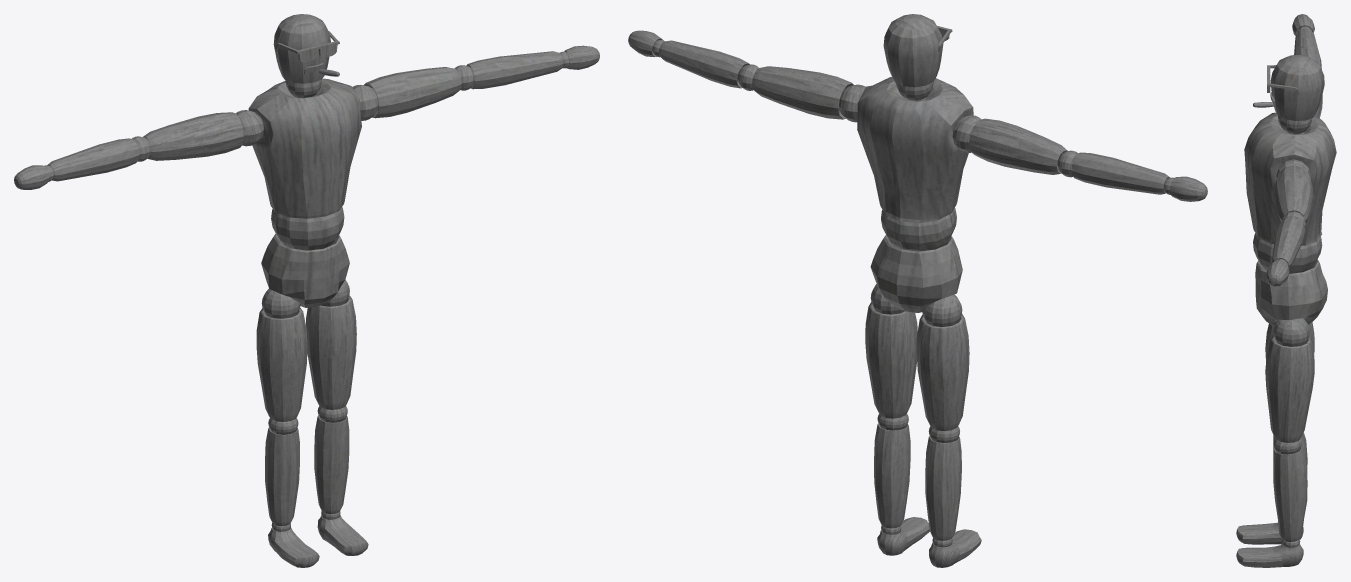
The model's file is NH_MannequinModel.obj.
3 views of the same model, side by side, from view 1: azimuth 30°, elevation 25°; view 2: azimuth 150°, elevation 25°; view 3: azimuth 270°, elevation 25° (orthographic). The views are drawn at different scales.
Parts seen in each view (by area): view 1: Hand_L; view 2: Hand_L; view 3: Hand_L.
Boxes of the visible parts, bbox=[...] form: Hand_L: bbox=[14, 14, 599, 567]; Hand_L: bbox=[628, 14, 1207, 567]; Hand_L: bbox=[1236, 14, 1336, 567].
Bounding box in the file's own units: 35.78 × 31.46 × 5.79.
1 material, 1 textured.
